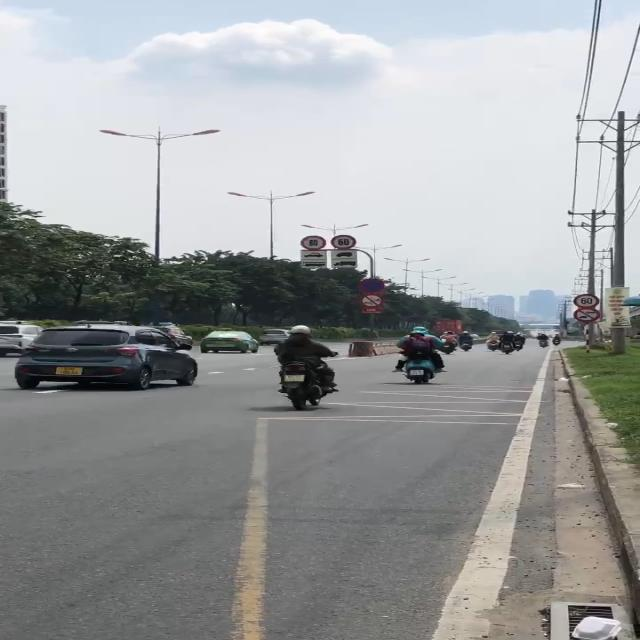Bien bao toc do toi da cho phep: (299, 233, 328, 251), (330, 233, 359, 250), (570, 292, 600, 308)
